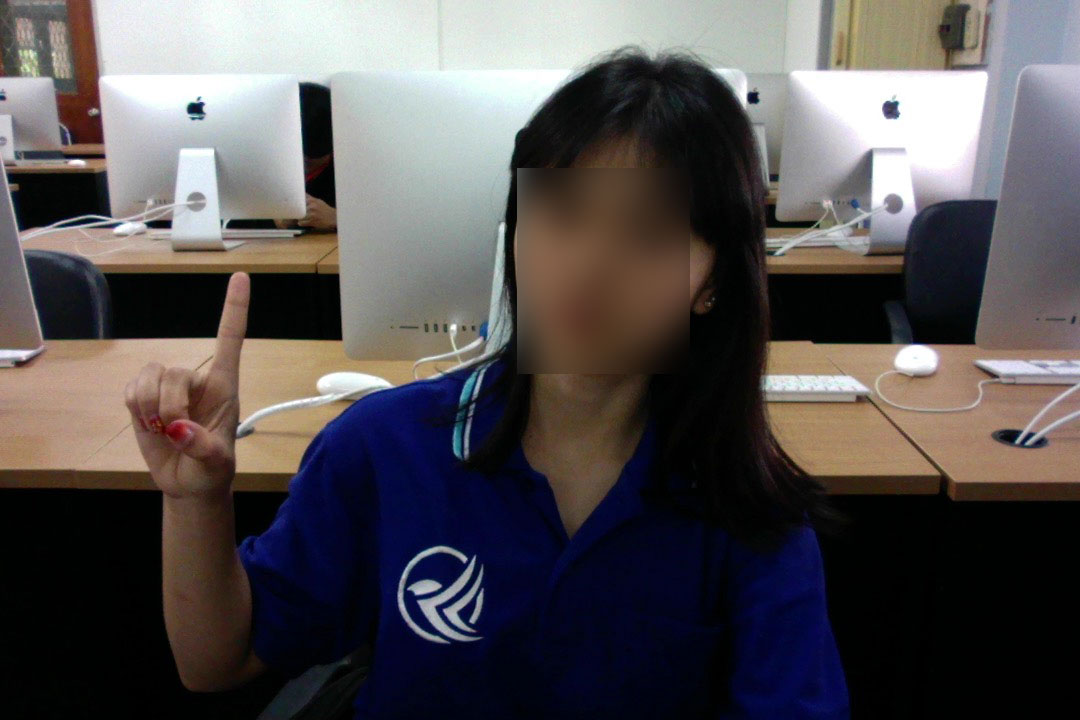dor: (121, 263, 260, 512)
